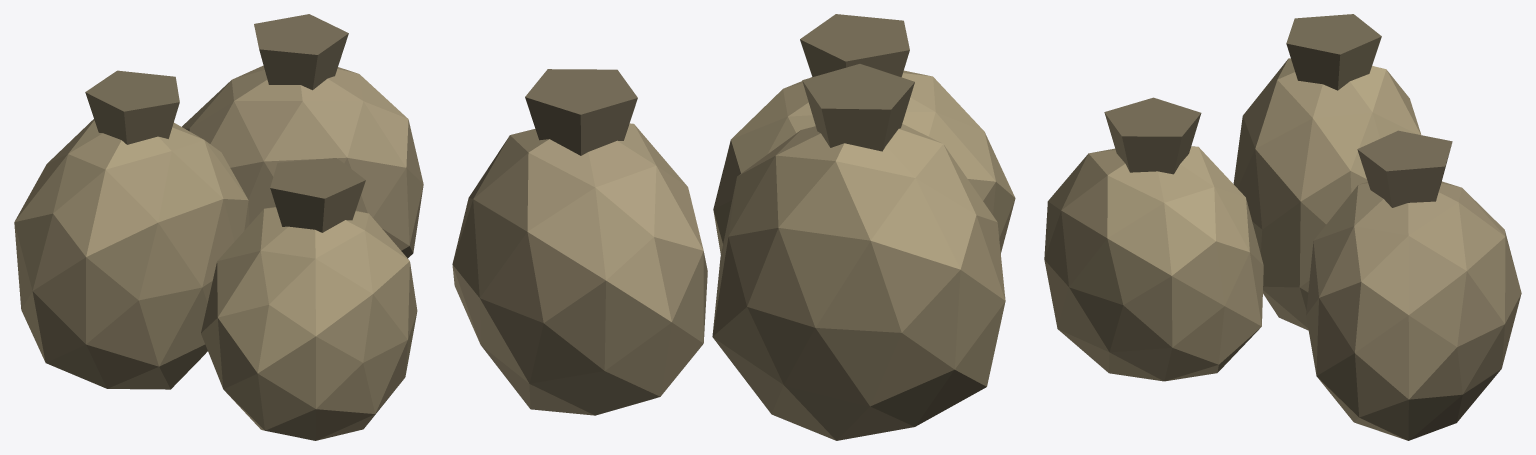
The model's file is sack.glb.
3 renders of one model, left to right at view 1: azimuth 30°, elevation 25°; view 2: azimuth 150°, elevation 25°; view 3: azimuth 270°, elevation 25°, orthographic. The views are drawn at different scales.
Visible parts, largest first — view 1: sack; view 2: sack; view 3: sack.
Boxes of the visible parts, x1,y1,x2,y2 form: sack: (14, 14, 423, 440); sack: (452, 14, 1015, 440); sack: (1044, 14, 1521, 440).
Bounding box in the file's own units: 0.9563 × 0.6395 × 0.9346.
